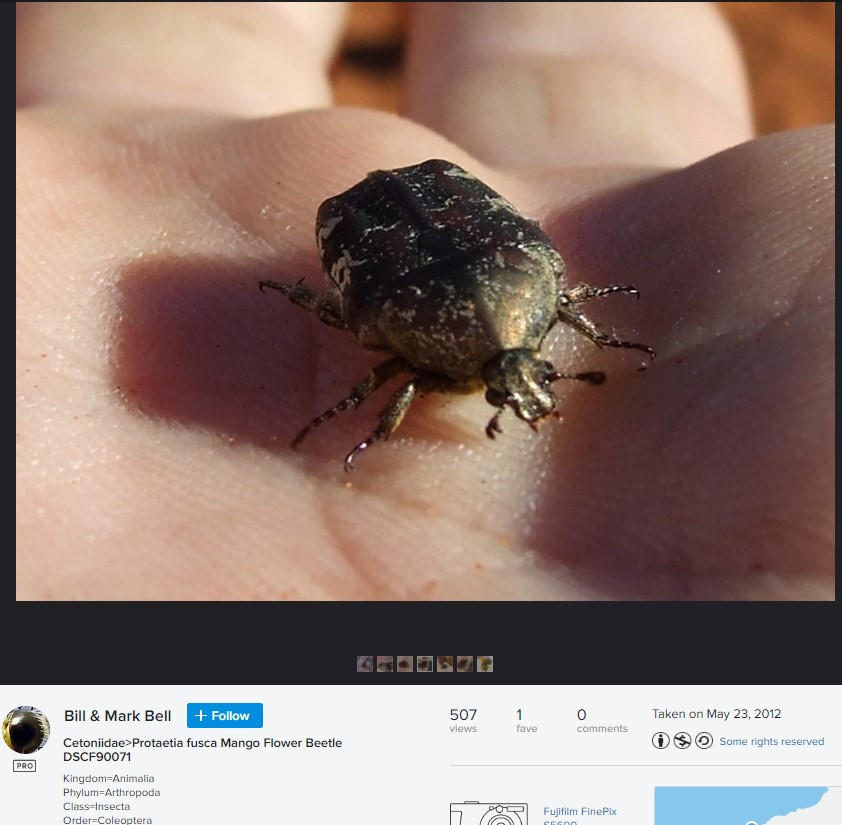Protaetia_fusca: (257, 154, 656, 483)
